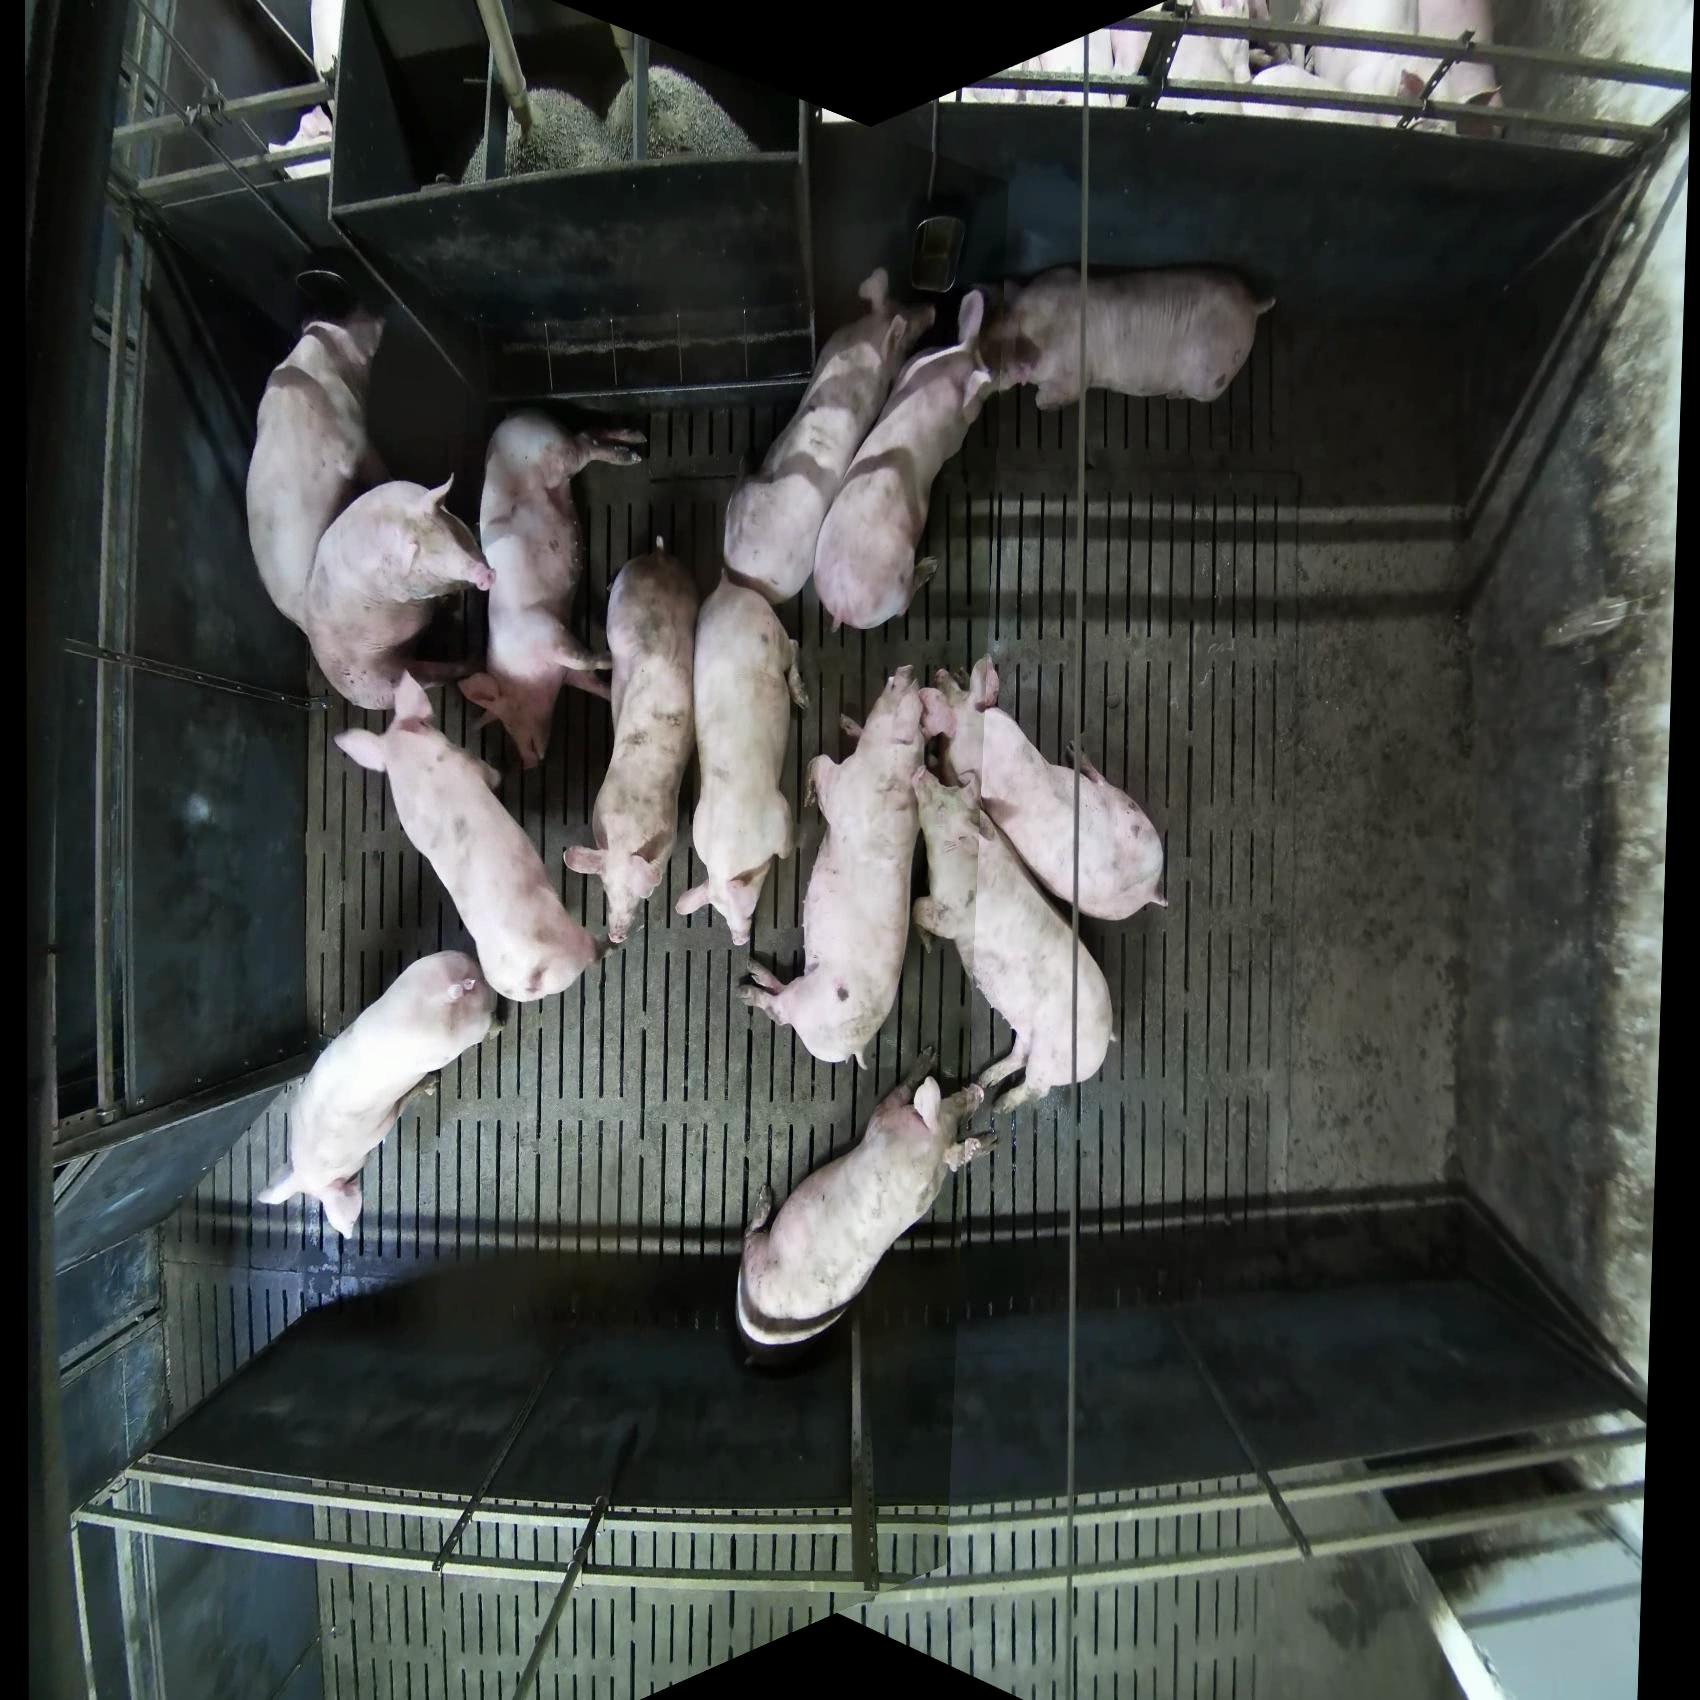pig: (332, 671, 609, 1004), (735, 663, 950, 1070), (735, 1059, 999, 1350), (911, 763, 1115, 1122), (722, 266, 937, 606), (255, 948, 501, 1241), (458, 405, 651, 771), (923, 655, 1171, 923), (813, 286, 998, 634), (560, 542, 701, 947), (674, 565, 811, 948), (244, 299, 392, 634), (302, 472, 497, 715), (975, 262, 1280, 413), (604, 64, 760, 165), (1400, 2, 1505, 140), (1155, 2, 1256, 118), (1305, 2, 1421, 100), (500, 87, 618, 177)
